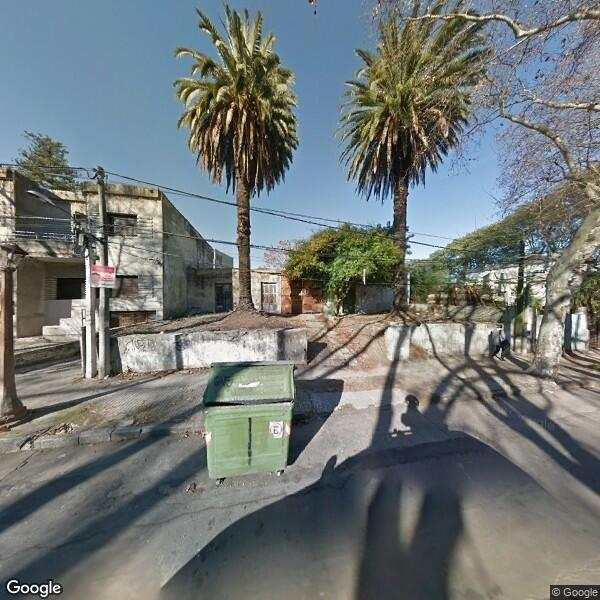Trash: (201, 362, 298, 484)
